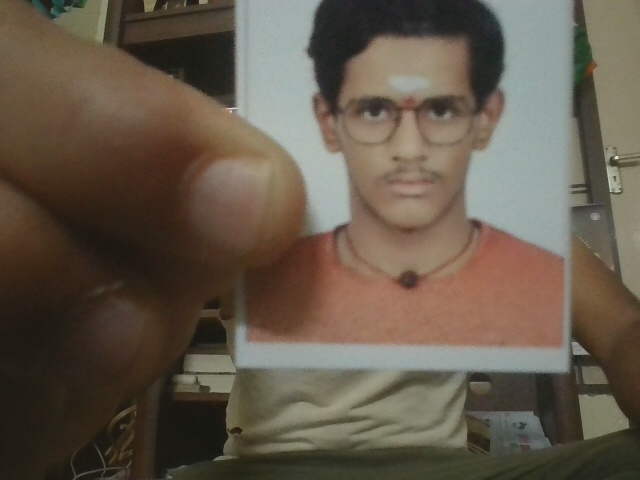fake: (307, 34, 510, 237)
